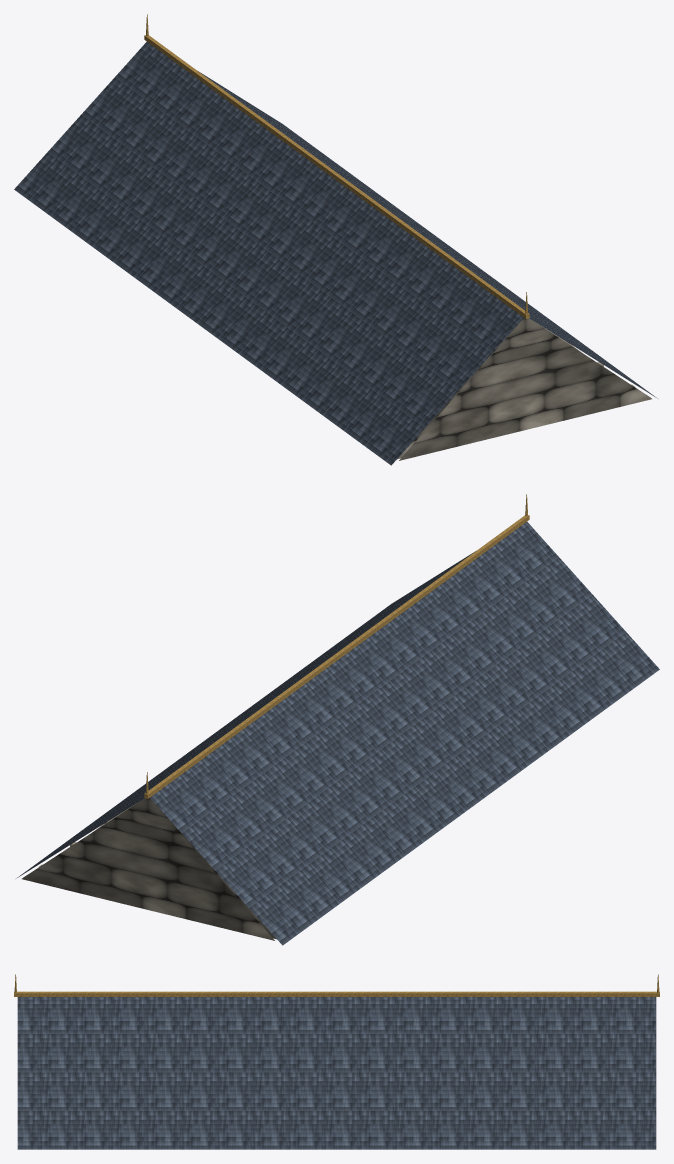
The model's file is Palace_Hall_Roof_1.gltf.
The picture shows the model from 3 angles, top to bottom: view 1: azimuth 30°, elevation 25°; view 2: azimuth 150°, elevation 25°; view 3: azimuth 270°, elevation 25°; orthographic projection. The views are drawn at different scales.
Parts seen in each view (by area): view 1: Palace_Hall_Roof_1; view 2: Palace_Hall_Roof_1; view 3: Palace_Hall_Roof_1.
Boxes of the visible parts, left/top/right/bottom form: Palace_Hall_Roof_1: left=14, top=14, right=657, bottom=465; Palace_Hall_Roof_1: left=16, top=494, right=659, bottom=945; Palace_Hall_Roof_1: left=14, top=974, right=659, bottom=1149.
Bounding box in the file's own units: 29.6 × 14.95 × 72.8.
Materials: 4 (4 with a texture image).
